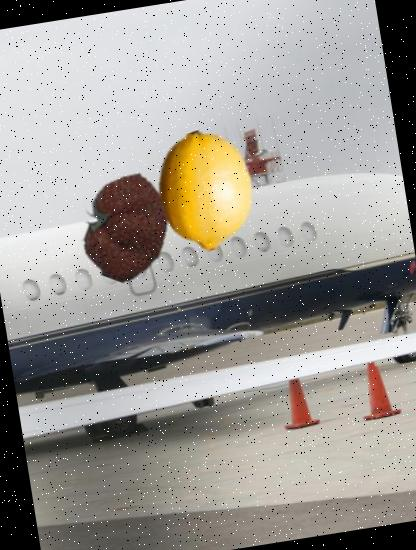Lemon: (138, 123, 273, 258)
Strawberry: (63, 163, 188, 288)
